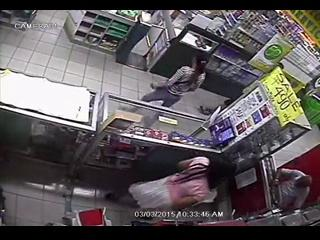Normal: (140, 55, 209, 108)
